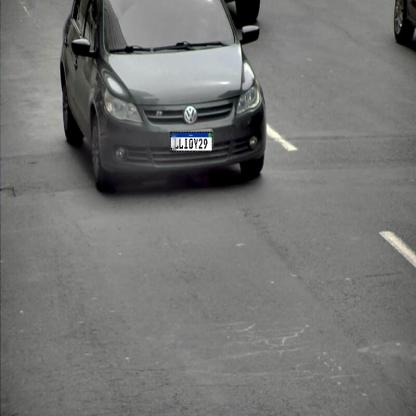PlacaM: (170, 132, 213, 152)
